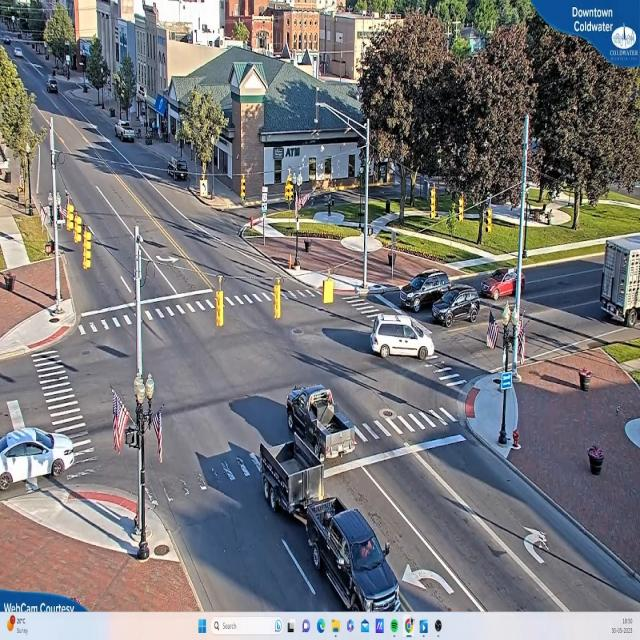car: (318, 505, 404, 609), (3, 424, 73, 488), (372, 318, 437, 362), (400, 270, 454, 310), (432, 289, 481, 327), (483, 270, 526, 303), (116, 122, 137, 144), (49, 81, 59, 94)
